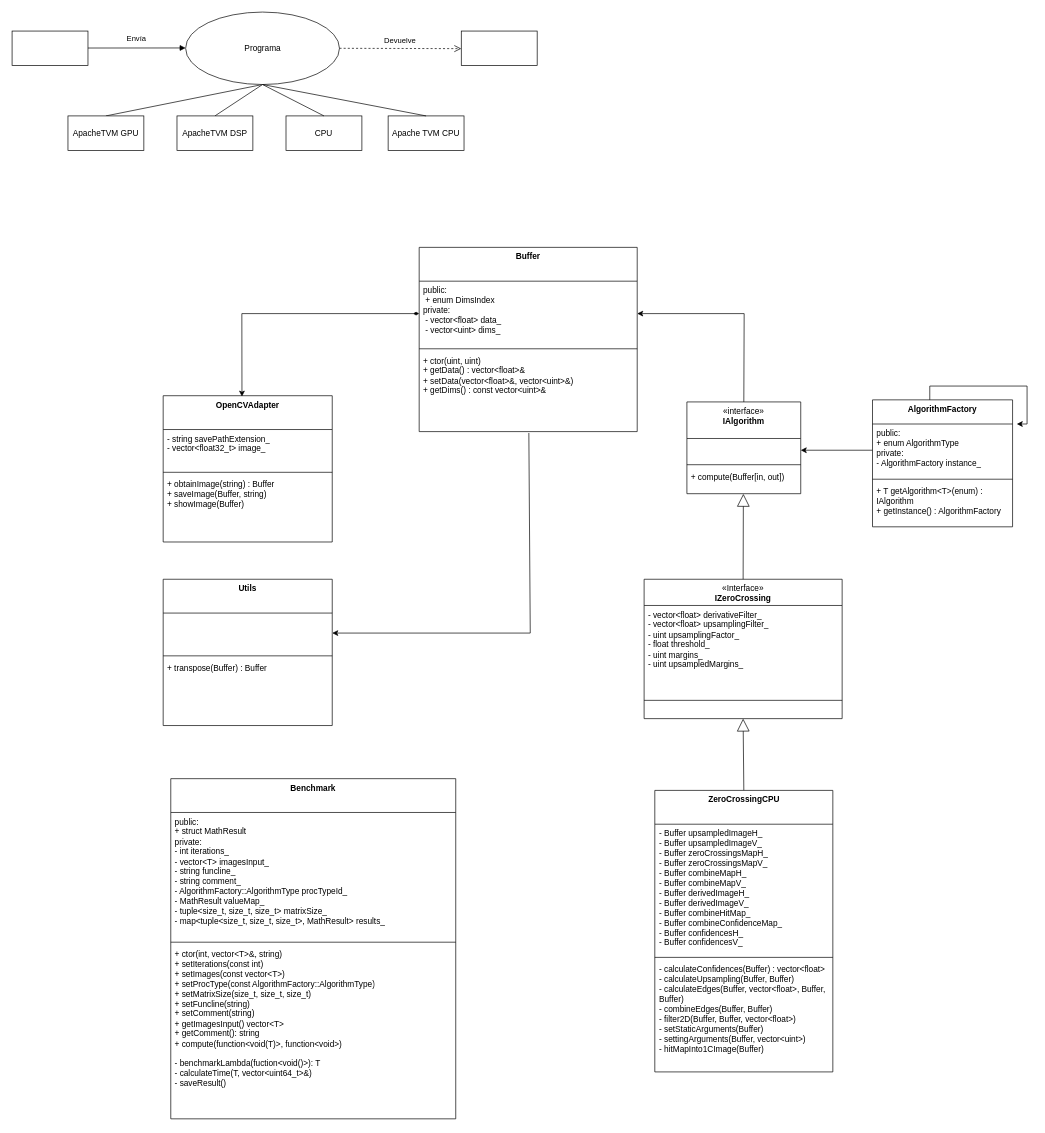
Some shapes in this 1045 by 1133 pixel diagram are drawn without their labels. Each missing label, with the centre of its shape:
"Input Imagen" goes at [49,48].
"OutputImage" goes at [499,48].
